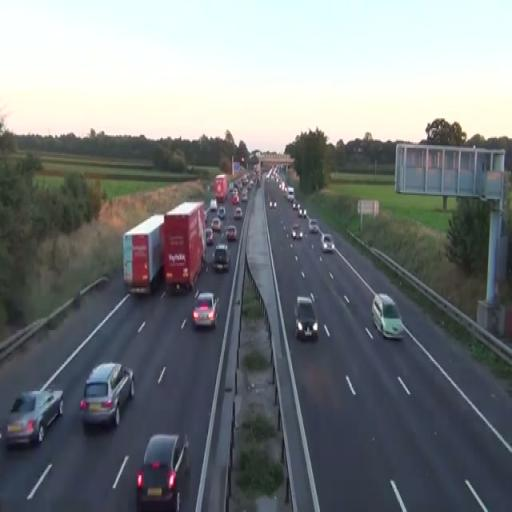Car: (136, 433, 191, 511), (3, 388, 64, 450), (80, 361, 134, 430), (370, 293, 404, 340), (294, 295, 318, 342), (192, 292, 220, 328), (212, 243, 231, 273), (321, 233, 334, 253), (226, 225, 238, 241), (309, 219, 320, 233), (206, 228, 214, 246), (233, 208, 243, 220)
Truck: (162, 201, 206, 293), (122, 213, 165, 296)
